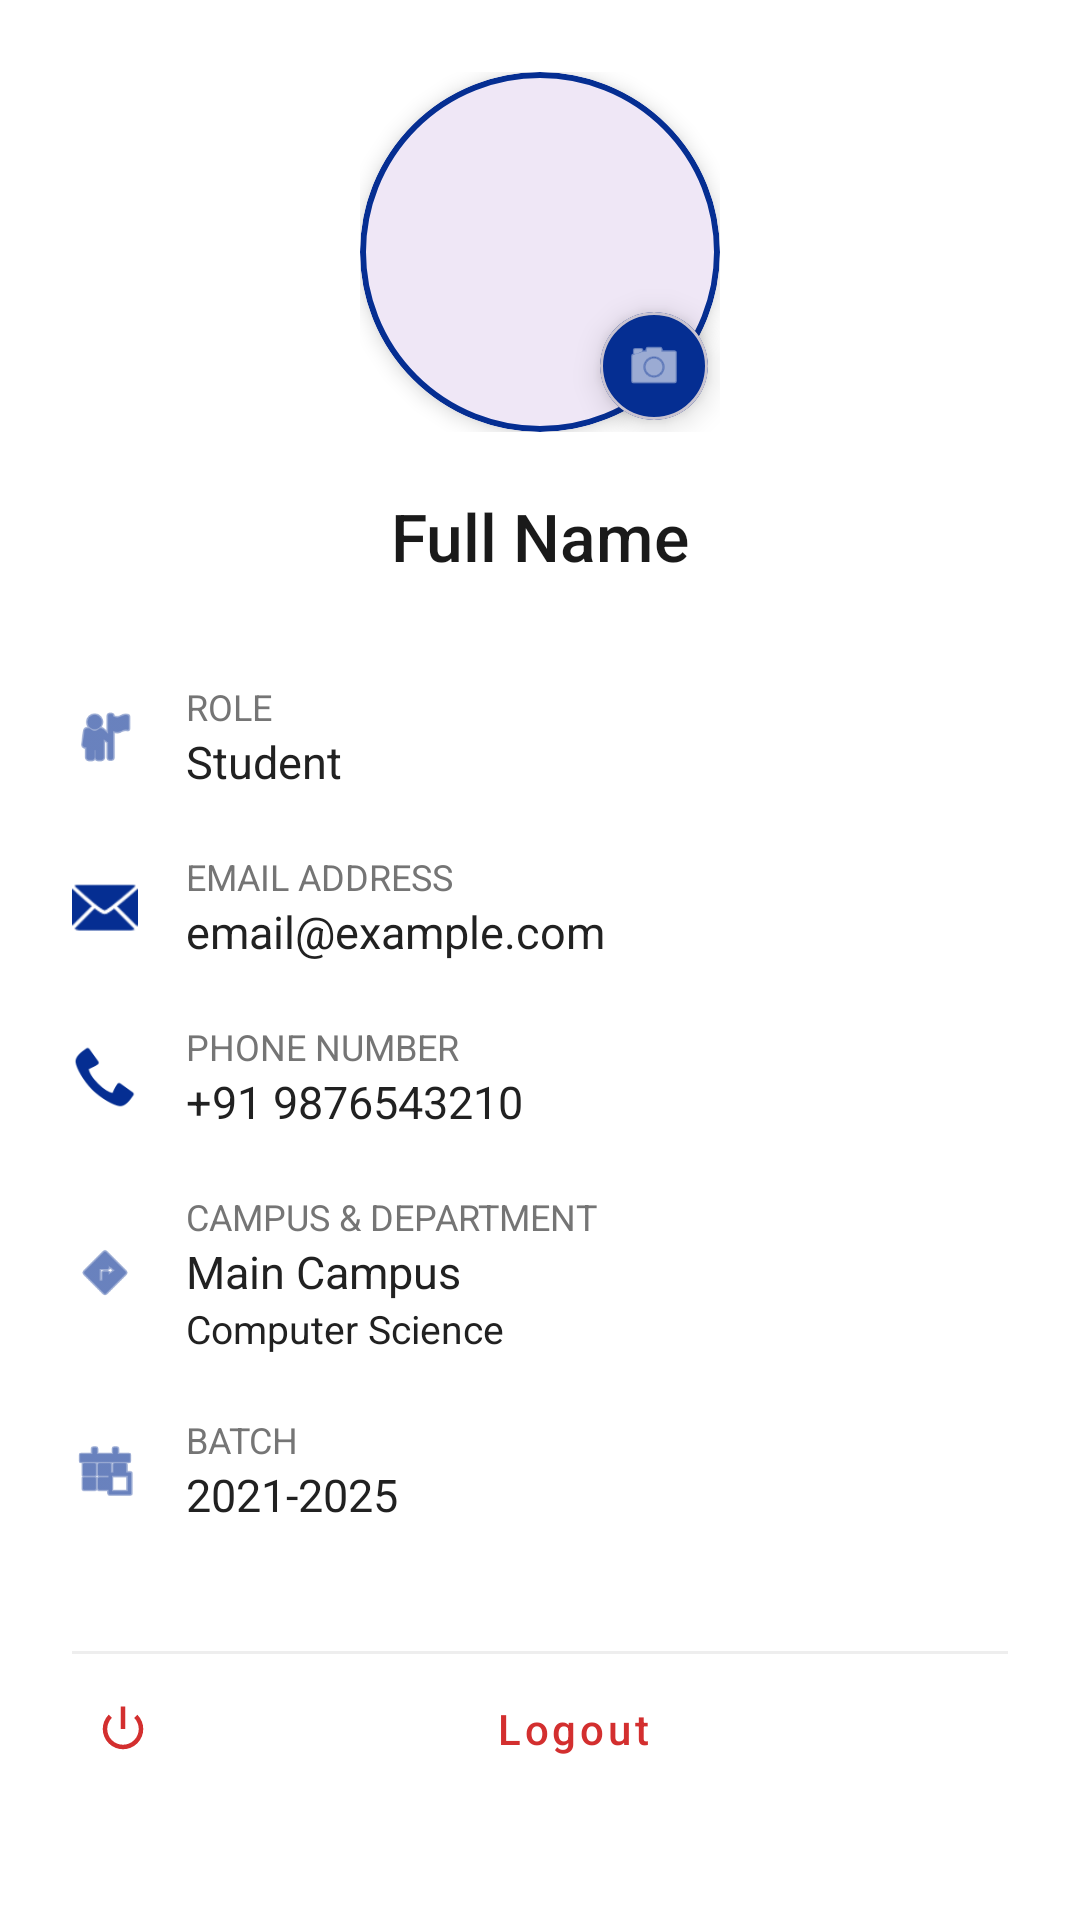

Icon click points for this 1080w x 1920h phone screenshot, format (x=x, y=y):
camera: (x=654, y=366)
